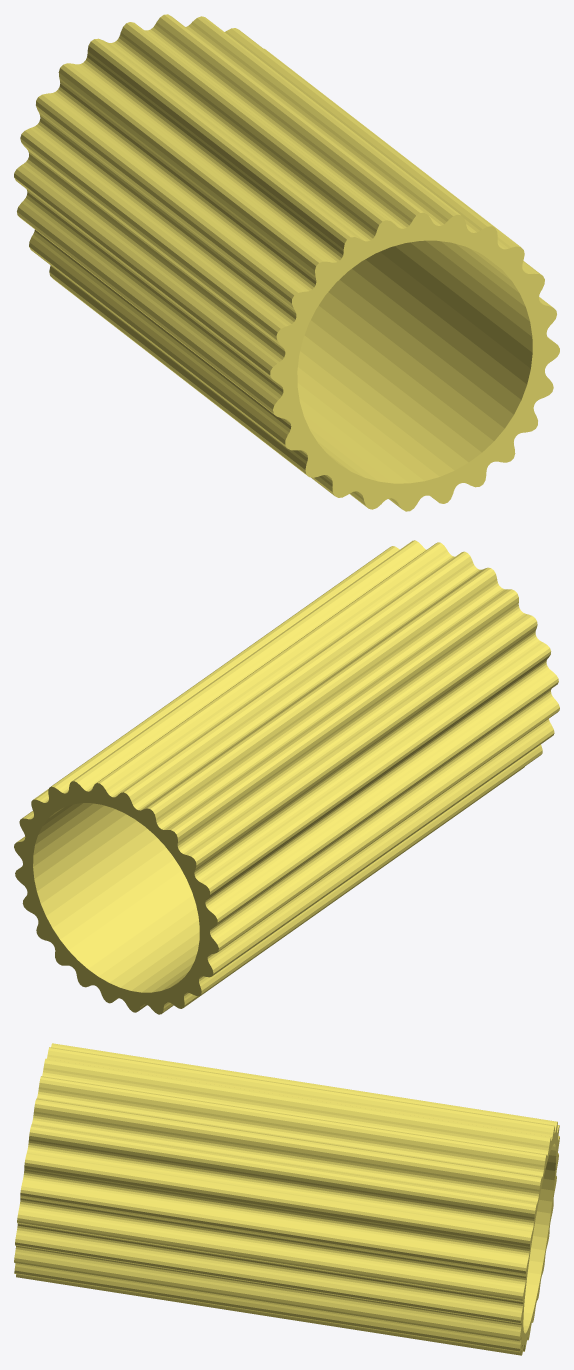
The model's file is Rigatoni.002.gltf.
3 renders of one model, top to bottom at view 1: azimuth 30°, elevation 25°; view 2: azimuth 150°, elevation 25°; view 3: azimuth 270°, elevation 25°, orthographic. The views are drawn at different scales.
Parts seen in each view (by area): view 1: Rigatoni.002; view 2: Rigatoni.002; view 3: Rigatoni.002.
Boxes of the visible parts, x1=… form: Rigatoni.002: x1=14, y1=14, x2=559, y2=511; Rigatoni.002: x1=14, y1=540, x2=559, y2=1014; Rigatoni.002: x1=14, y1=1043, x2=559, y2=1355.
Bounding box in the file's own units: 1.74 × 1.67 × 3.15.
